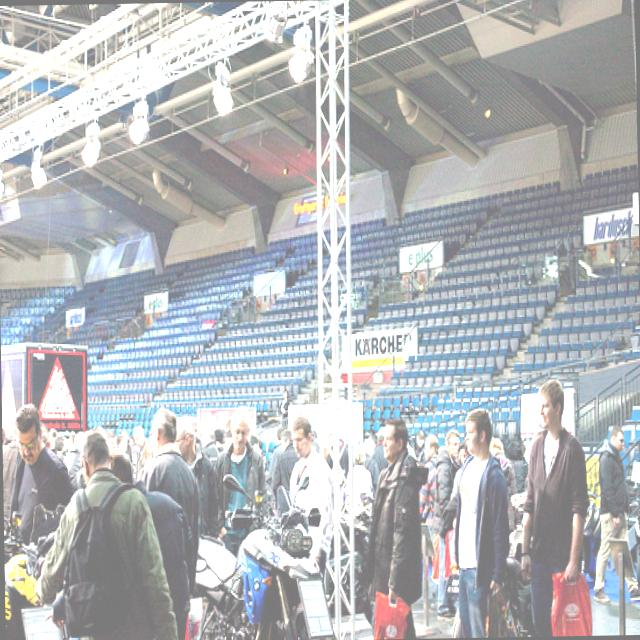Vehicle: (181, 470, 341, 640), (3, 488, 86, 640)
